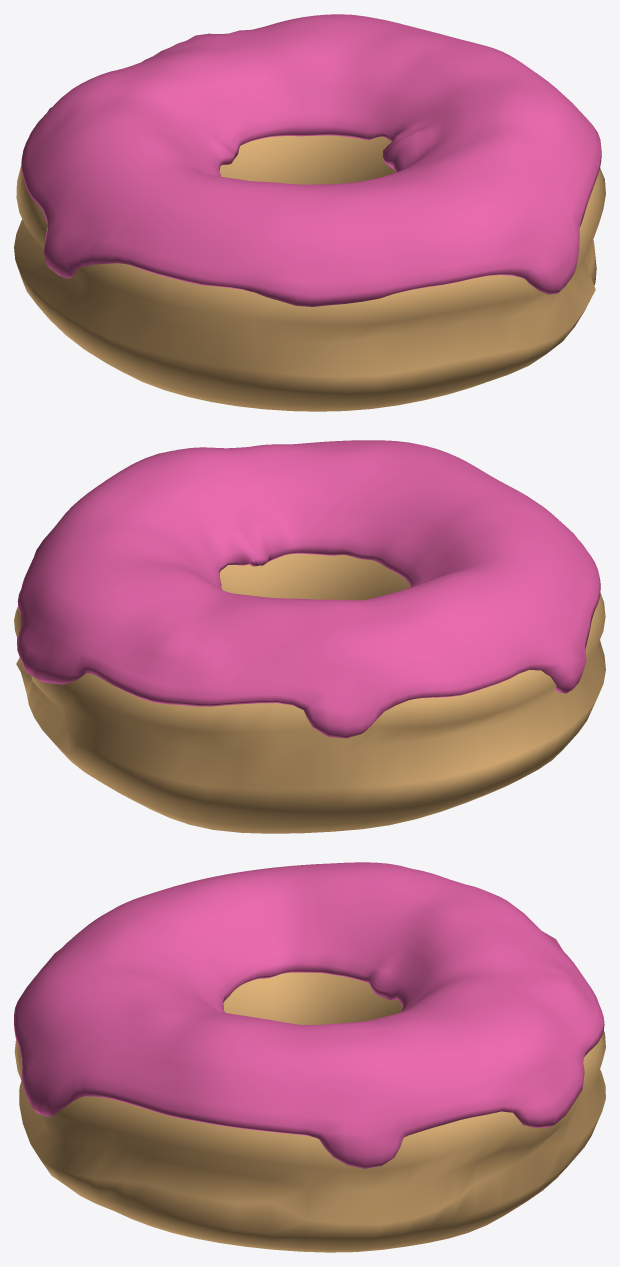
File: Donut.gltf
3 views of the same model, one above another, from view 1: azimuth 30°, elevation 25°; view 2: azimuth 150°, elevation 25°; view 3: azimuth 270°, elevation 25° (orthographic).
Visible parts, largest first — view 1: icing, Donut; view 2: icing, Donut; view 3: icing, Donut.
Part boxes in pixels (x1,y1,x2,y2): icing: (21, 14, 601, 306); Donut: (14, 135, 605, 411); icing: (17, 440, 600, 738); Donut: (14, 553, 605, 833); icing: (14, 862, 604, 1168); Donut: (14, 972, 605, 1252).
Size of what is drawn, in the model's own units: 0.1563 by 0.0657 by 0.1552.
